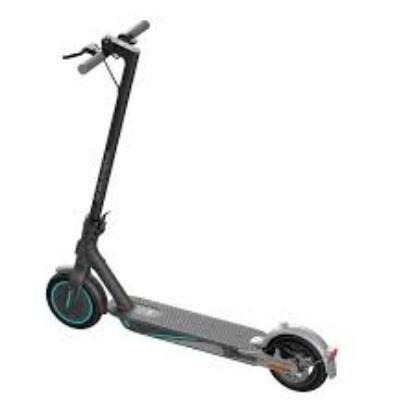bike: (45, 22, 341, 396)
